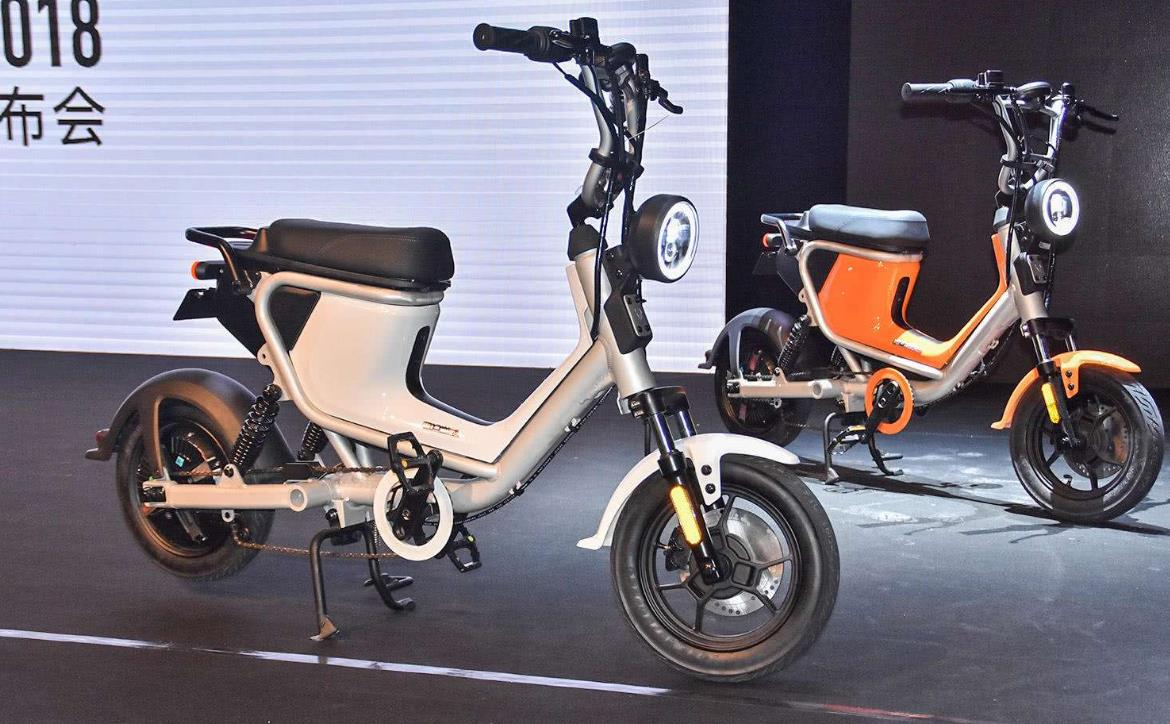电动车: (87, 10, 858, 683), (685, 56, 1164, 522)
